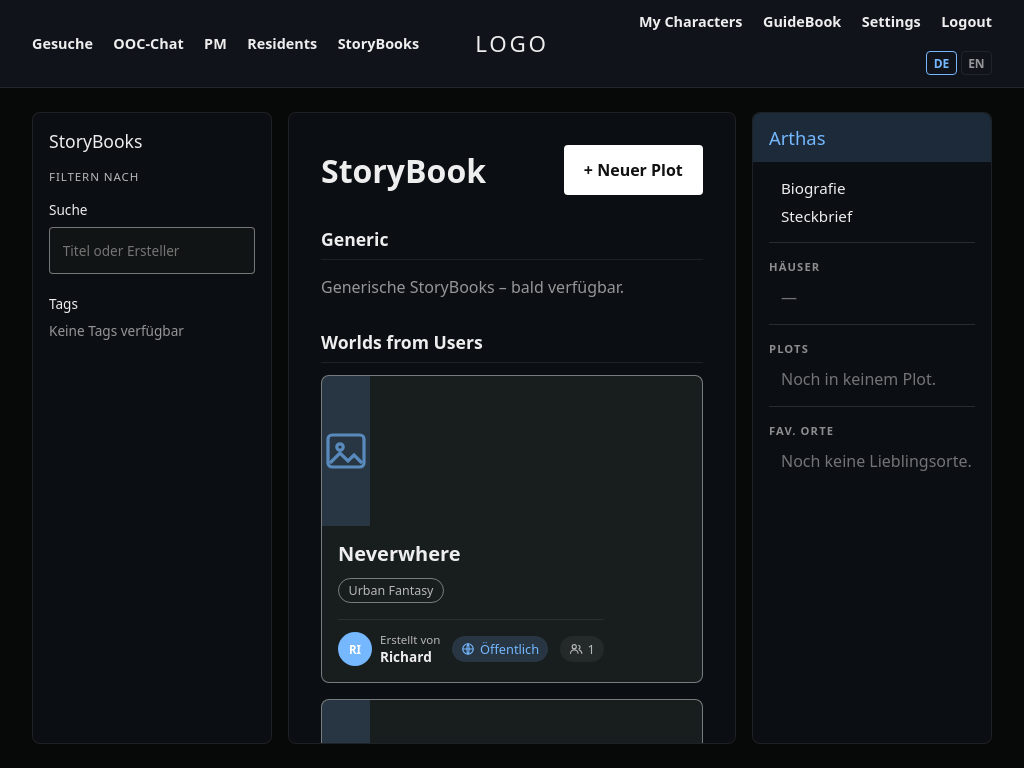
Test: search matches both title and creator
This screenshot has width=1024, height=768.
Expected: the heading "Neverwhere" is shown, [338, 540, 460, 567]
# Matches by title.
Type "dune" into the field with placeholder "Titel oder Ersteller" at {"x": 152, "y": 251}, box [49, 227, 255, 274]
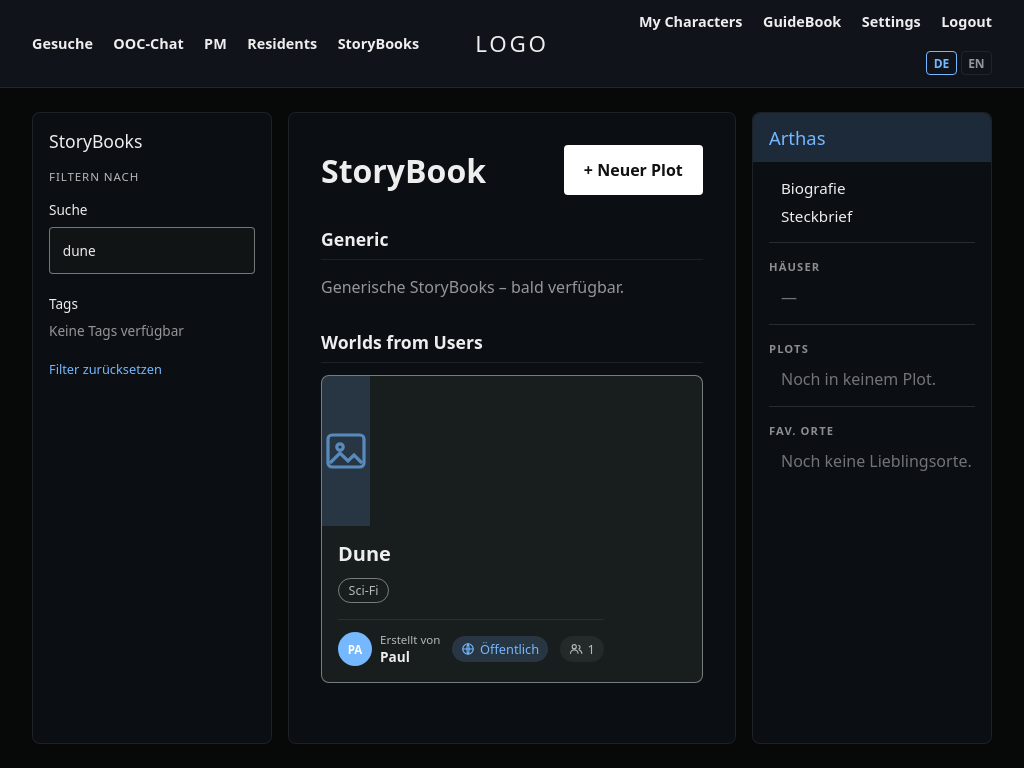
Expected: the button "Neverwhere" is gone
Expected: the heading "Dune" is shown, [338, 540, 391, 567]
# Matches by creator.
Replace the text in the field with placeholder "Titel oder Ersteller" with "richard" at {"x": 152, "y": 251}, box [49, 227, 255, 274]
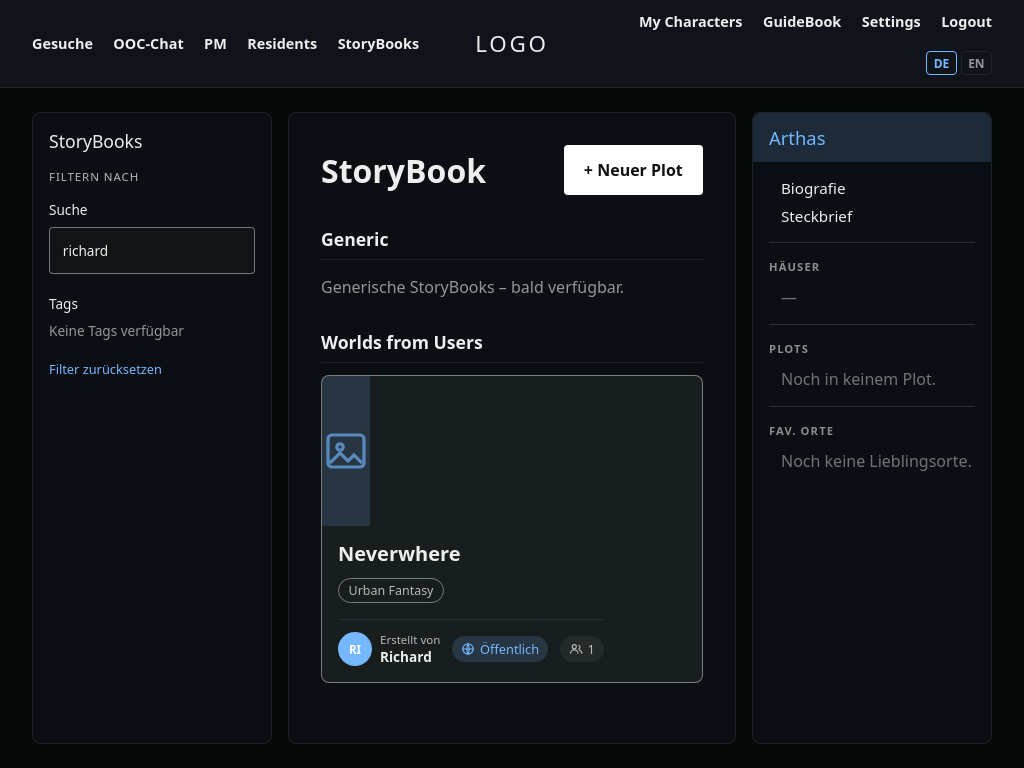
Expected: the heading "Neverwhere" is shown, [338, 540, 460, 567]
Expected: the button "Dune" is gone
